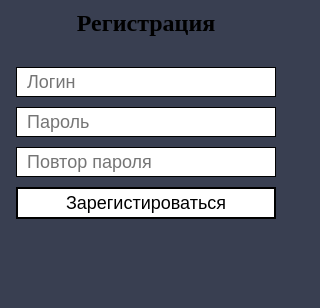
Test: Auth pages › shows register backend error to the user
In the field with placeholder "Логин": (146, 82) [16,67,276,97], type "reader2"
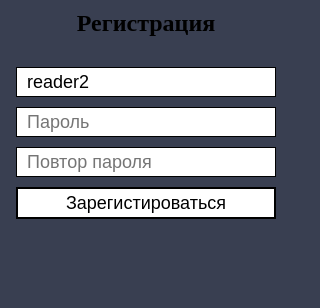
In the password field with placeholder "Пароль": (146, 122) [16,107,276,137], type "Reader#123"
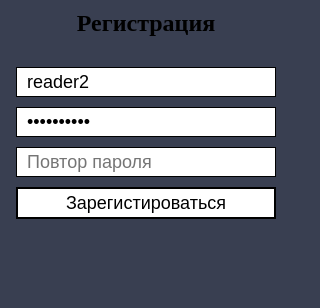
In the password field with placeholder "Повтор пароля": (146, 162) [16,147,276,177], type "Reader#123"
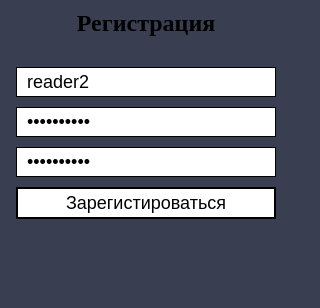
Click the button "Зарегистироваться": (146, 203) [16,187,276,219]
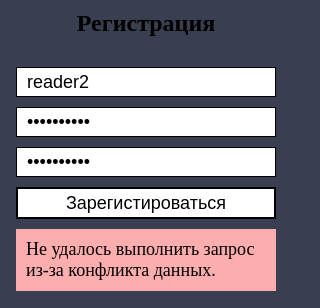
Expected: the text "Не удалось выполнить запрос из-за конфликта данных." is shown, [16,229,276,291]
